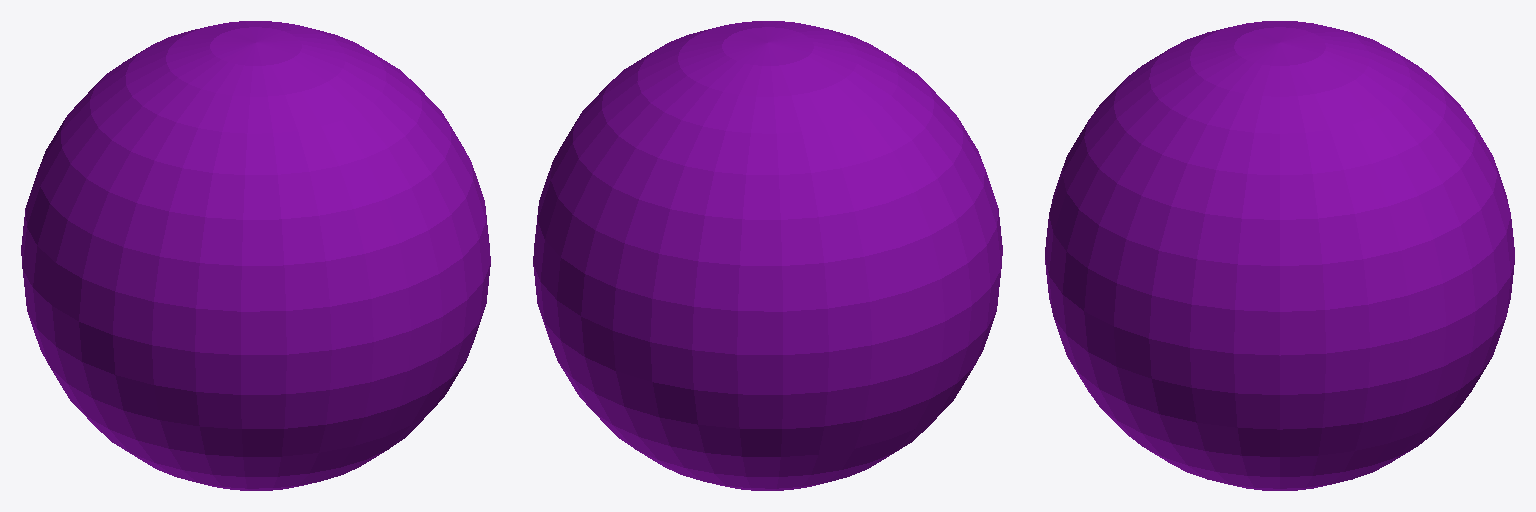
Rendered from Elephant.obj.
3 views of the same model, side by side, from view 1: azimuth 30°, elevation 25°; view 2: azimuth 150°, elevation 25°; view 3: azimuth 270°, elevation 25° (orthographic).
Parts seen in each view (by area): view 1: Sphere001; view 2: Sphere001; view 3: Sphere001.
Boxes of the visible parts, box(x1,y1,x2,y2) form: Sphere001: box(21, 21, 490, 490); Sphere001: box(533, 21, 1002, 490); Sphere001: box(1045, 21, 1514, 490).
Bounding box in the file's own units: 35157 × 35157 × 35157.